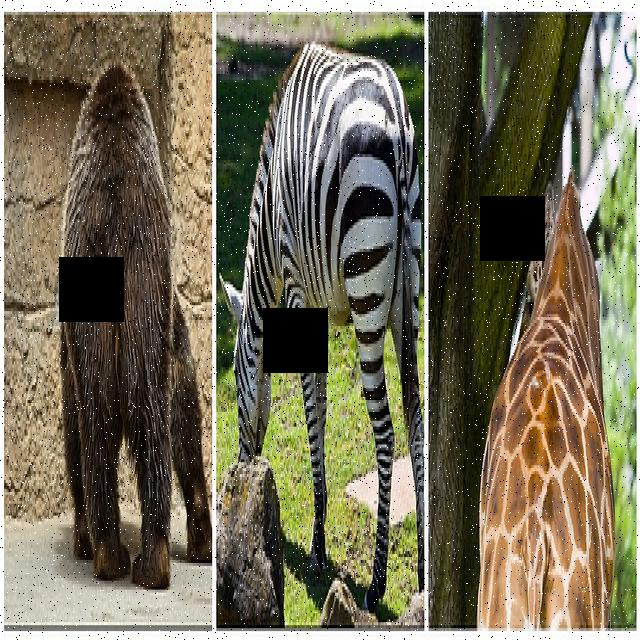Bear: (56, 44, 212, 602)
